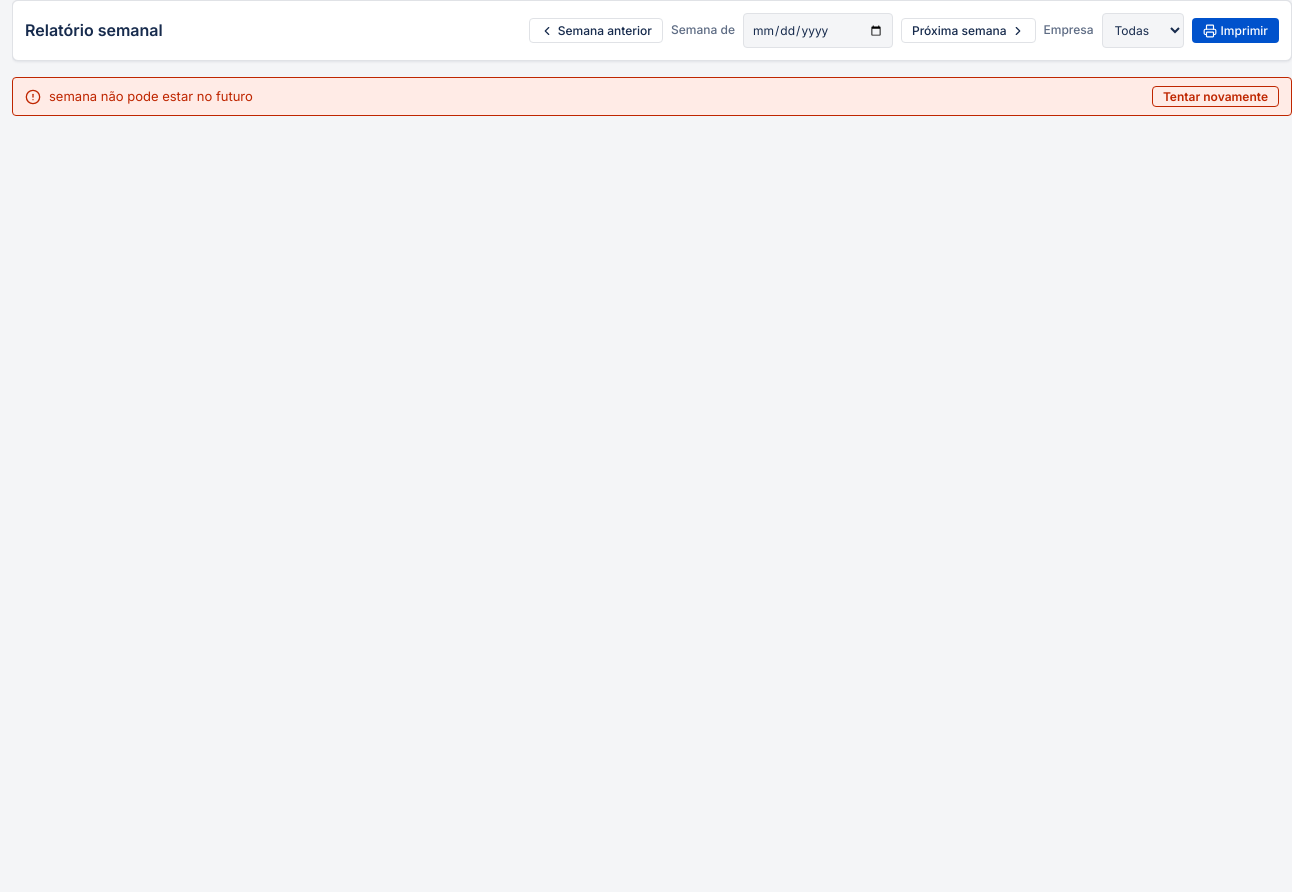
RelatorioSemanal › mostra o erro com nova tentativa
Expected: the text "semana não pode estar no futuro" is shown, top-left (49, 87), bottom-right (253, 106)
Click the button "Tentar novamente" at [1215, 96], box top-left (1152, 86), bottom-right (1279, 107)
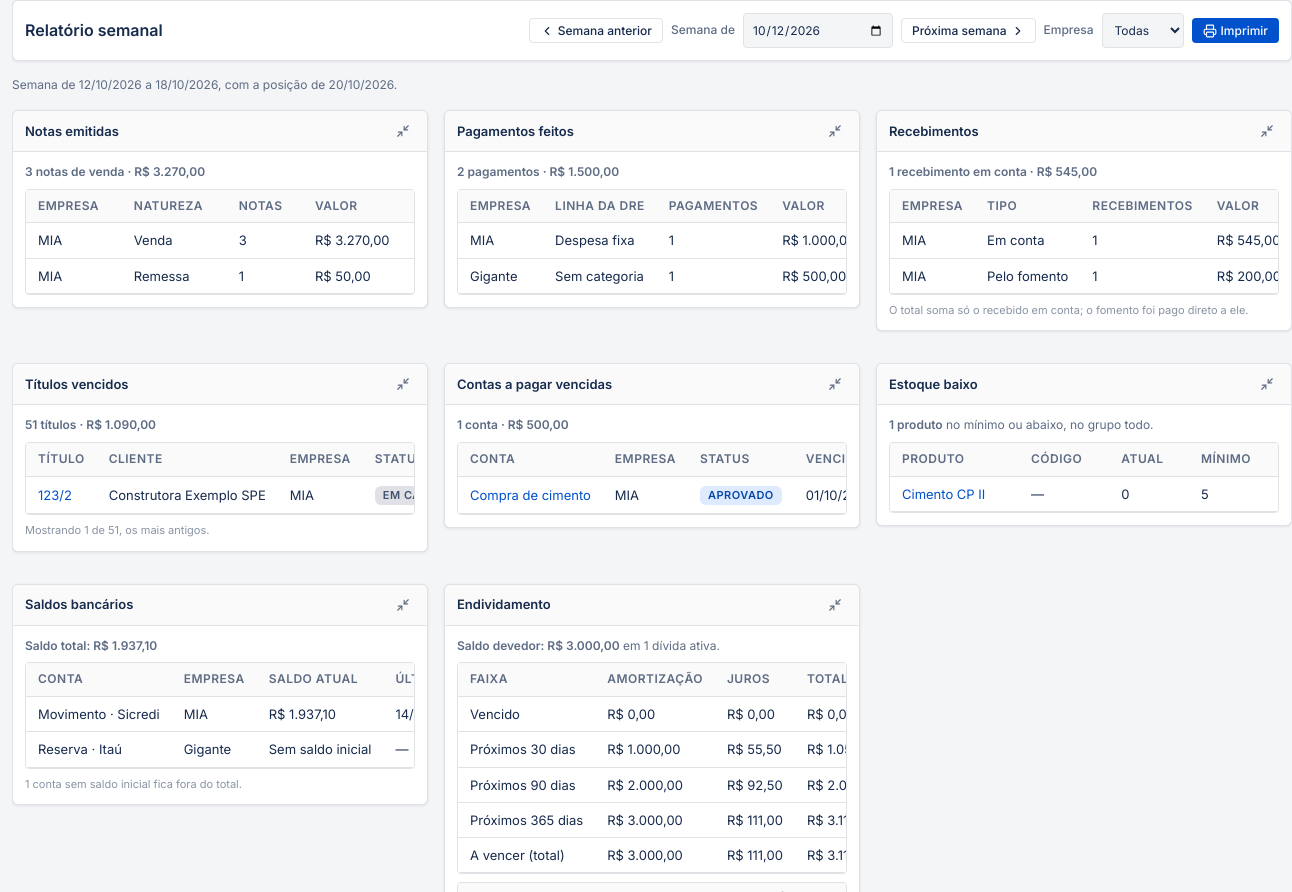
Result: the text "Semana de 12/10/2026" is shown at top-left (12, 77), bottom-right (397, 92)
